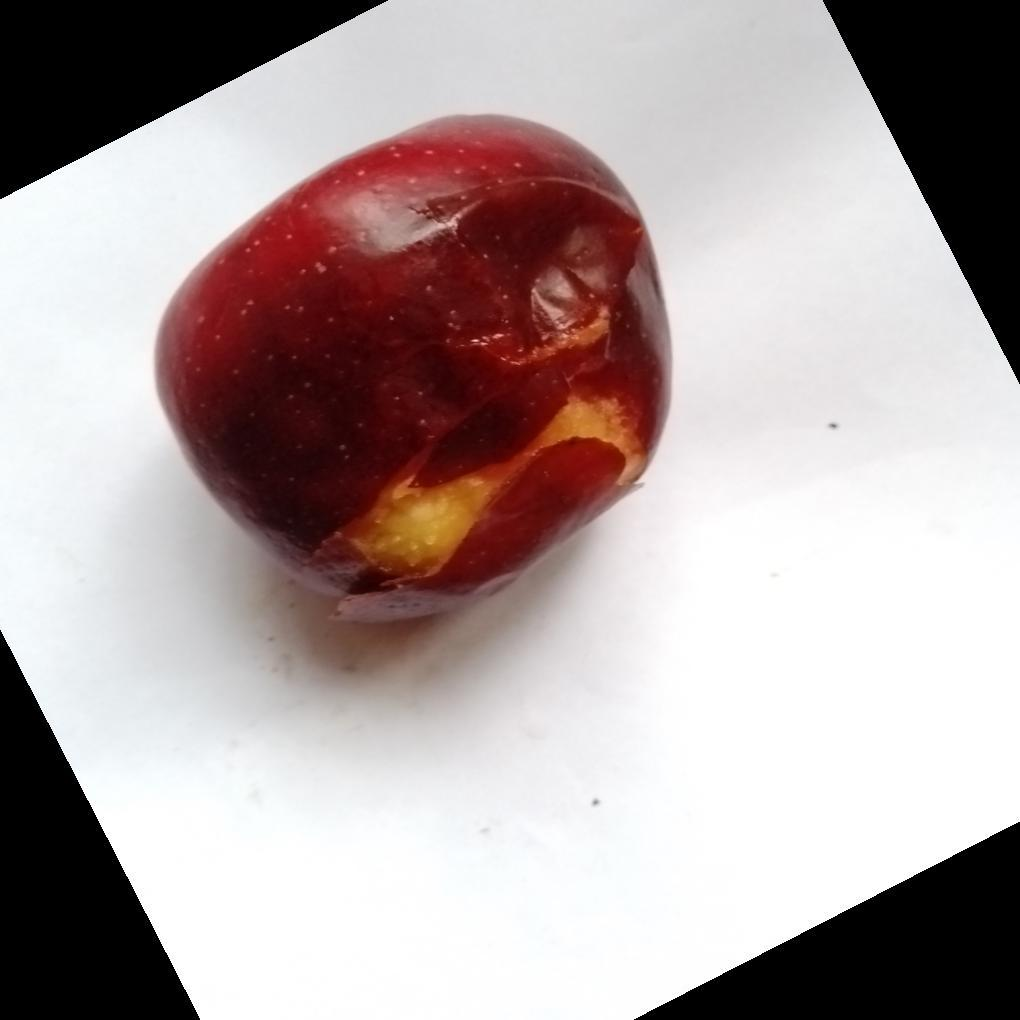FreshOrange: (153, 113, 672, 627)
